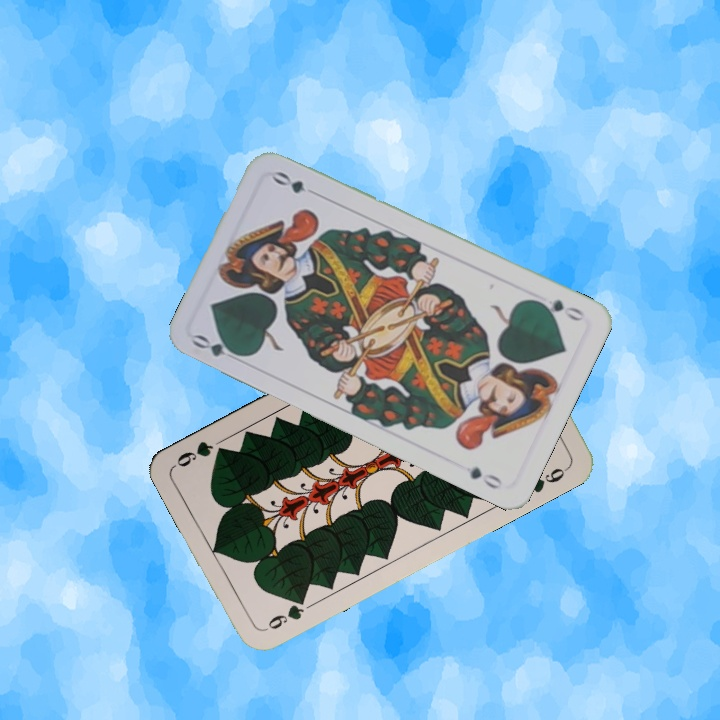G9: (260, 592, 309, 634)
GO: (188, 330, 247, 366), (530, 295, 588, 324)
